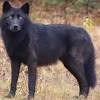Lobo: (1, 1, 96, 94)
